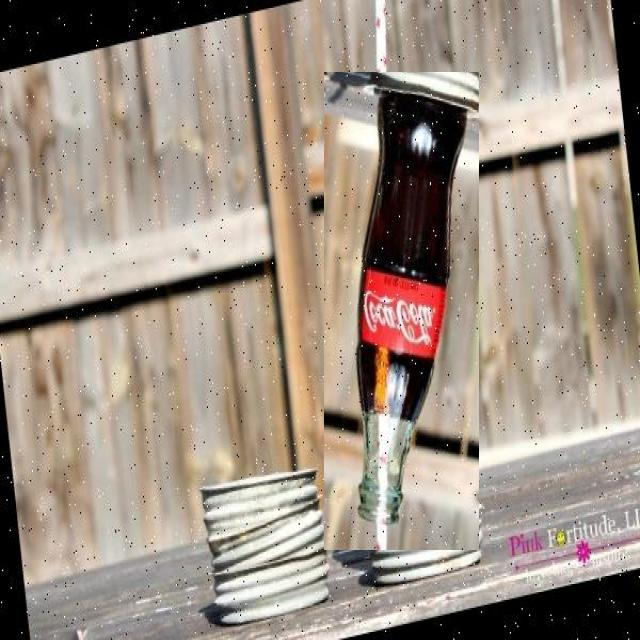coca-cola: (324, 72, 479, 550)
